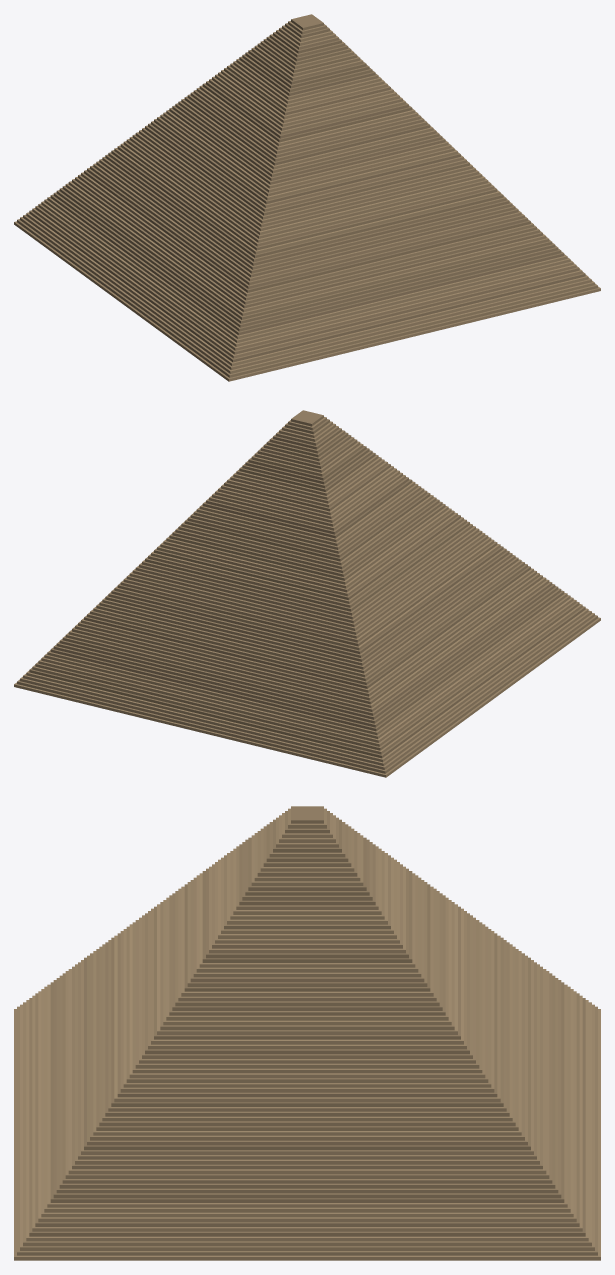
File: great-pyramid-surviving-v1.glb
The picture shows the model from 3 angles, top to bottom: view 1: azimuth 30°, elevation 25°; view 2: azimuth 150°, elevation 25°; view 3: azimuth 270°, elevation 25°; orthographic projection. The views are drawn at different scales.
Visible parts, largest first — view 1: great-pyramid-surviving-v1; view 2: great-pyramid-surviving-v1; view 3: great-pyramid-surviving-v1.
Boxes of the visible parts, left/top/right/bottom form: great-pyramid-surviving-v1: left=14, top=14, right=600, bottom=381; great-pyramid-surviving-v1: left=14, top=410, right=600, bottom=777; great-pyramid-surviving-v1: left=14, top=806, right=600, bottom=1260.
Bounding box in the file's own units: 228 × 138 × 228.
